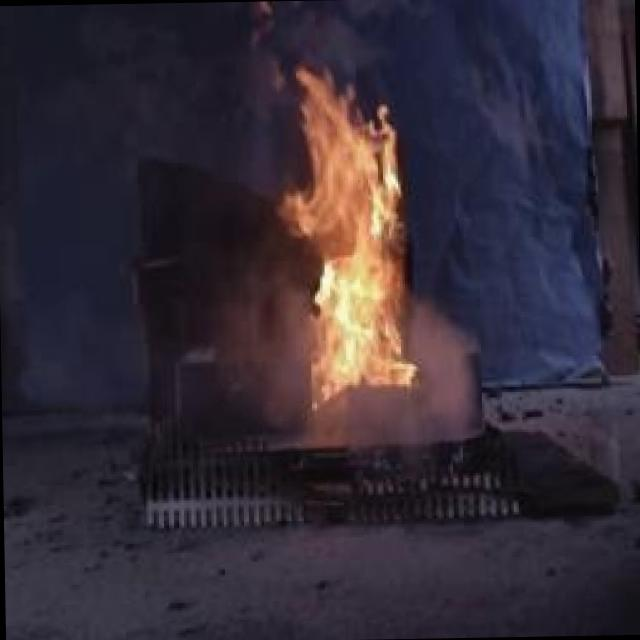fire: (290, 52, 416, 409)
